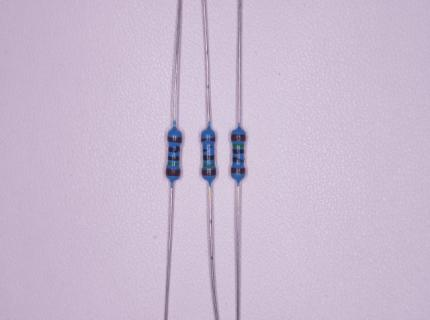Black band: (203, 155, 215, 161), (233, 157, 244, 163), (232, 149, 244, 154), (168, 147, 180, 152), (168, 156, 179, 161), (203, 148, 215, 152)
Brown band: (166, 168, 180, 176), (231, 134, 246, 141), (167, 136, 182, 143), (202, 170, 217, 176), (231, 168, 245, 174), (201, 137, 216, 142)
Green band: (167, 162, 179, 166), (203, 163, 215, 167), (233, 144, 244, 147)
